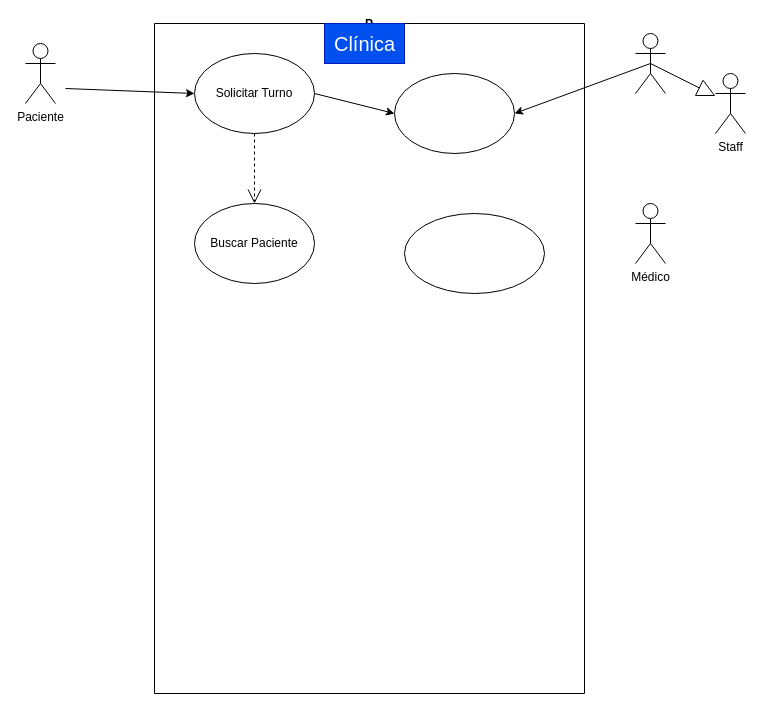
Image size: 763x711. Some labels were removed from this diagram. Each missing label, with the centre of its shape:
"Asignar Turno" goes at point (454, 113).
"Empleado" goes at point (650, 63).
"Presencia Confimada" goes at point (474, 253).
